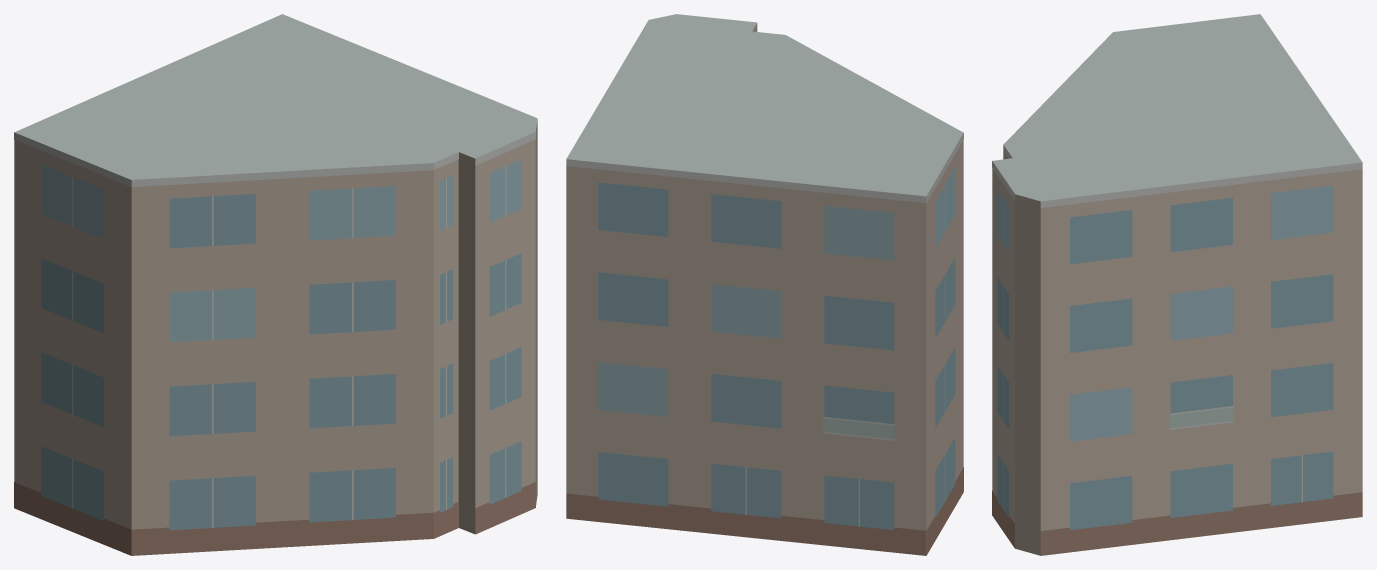
The model's file is survey-upis-32525084.glb.
3 views of the same model, side by side, from view 1: azimuth 30°, elevation 25°; view 2: azimuth 150°, elevation 25°; view 3: azimuth 270°, elevation 25° (orthographic). The views are drawn at different scales.
Visible parts, largest first — view 1: survey-upis-32525084.tmp; view 2: survey-upis-32525084.tmp; view 3: survey-upis-32525084.tmp.
Part boxes in pixels (x1,y1,x2,y2): survey-upis-32525084.tmp: [14, 14, 537, 555]; survey-upis-32525084.tmp: [566, 14, 963, 555]; survey-upis-32525084.tmp: [992, 14, 1362, 555].
Bounding box in the file's own units: 14.52 × 12.8 × 12.14.
